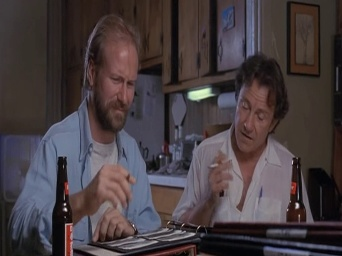smoke: (207, 159, 227, 169)
